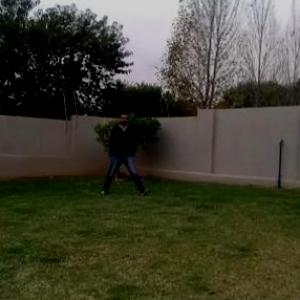follow: (109, 103, 132, 196)
